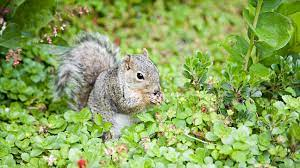squirrel: (55, 32, 162, 139)
